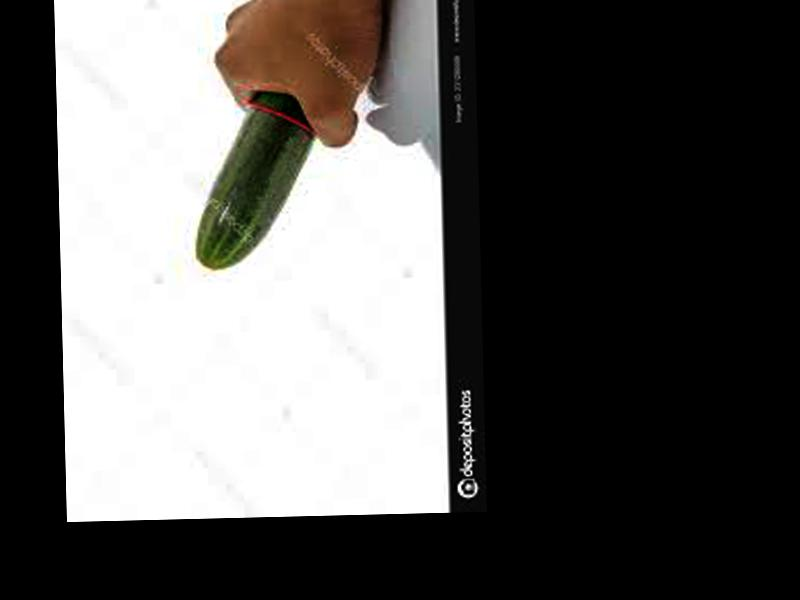Cucumber: (192, 90, 316, 270)
